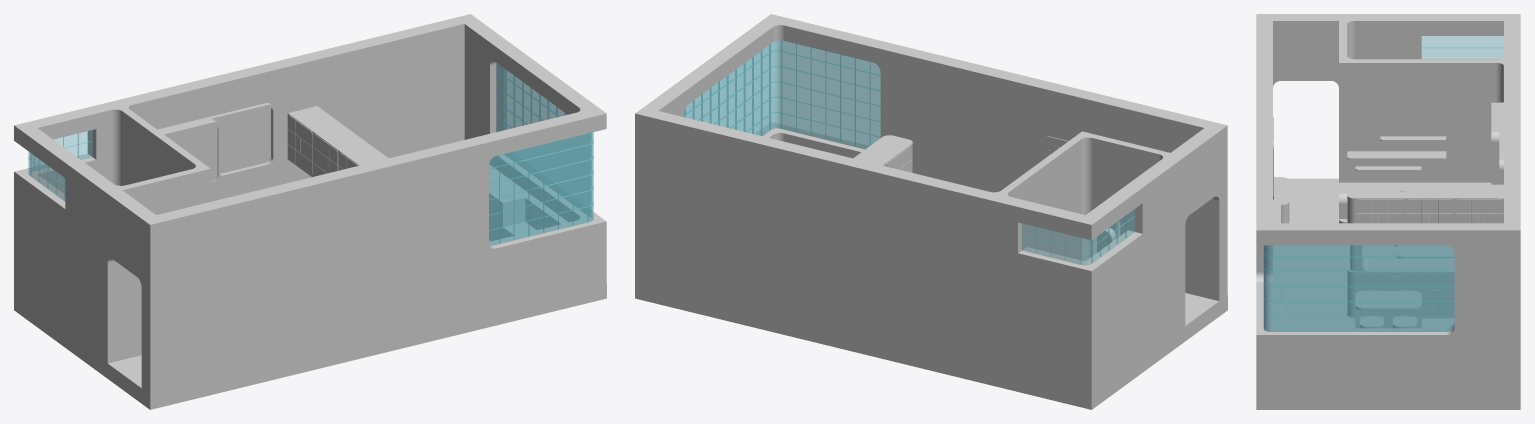
The model's file is memory typeA OptionA.glb.
3 renders of one model, left to right at view 1: azimuth 30°, elevation 25°; view 2: azimuth 150°, elevation 25°; view 3: azimuth 270°, elevation 25°, orthographic. The views are drawn at different scales.
Visible parts, largest first — view 1: 绿植区墙, 客厅墙, 厕所墙, 厨房墙, Glass, 卧室墙, 阅读区墙, 卧室衣柜, 厨房橱柜, 白色石膏, 米白色石膏, 客厅沙发（软） (+1 smaller); view 2: 厕所墙, 厨房墙, 卧室墙, 绿植区墙, 客厅墙, Glass, 阅读区墙, 卧室衣柜; view 3: 客厅墙, 厕所墙, 厨房墙, Glass, 厨房橱柜, 绿植区墙, 卧室墙, 卧室衣柜, 厨房餐桌, 卧室架子, 白色石膏, 卧室床（软） (+6 smaller).
Boxes of the visible parts, left/top/right/bottom form: 绿植区墙: left=245, top=136, right=488, bottom=384; 客厅墙: left=107, top=70, right=606, bottom=409; 厕所墙: left=14, top=102, right=210, bottom=378; 厨房墙: left=294, top=14, right=546, bottom=241; Glass: left=28, top=63, right=593, bottom=245; 卧室墙: left=110, top=71, right=243, bottom=201; 阅读区墙: left=235, top=57, right=302, bottom=193; 卧室衣柜: left=287, top=109, right=373, bottom=176; 厨房橱柜: left=303, top=106, right=524, bottom=240; 白色石膏: left=157, top=103, right=275, bottom=184; 米白色石膏: left=167, top=125, right=217, bottom=181; 客厅沙发（软）: left=503, top=196, right=567, bottom=237; 厕所墙: left=993, top=131, right=1185, bottom=409; 厨房墙: left=635, top=57, right=819, bottom=341; 卧室墙: left=870, top=165, right=1003, bottom=386; 绿植区墙: left=880, top=43, right=1124, bottom=252; 客厅墙: left=712, top=14, right=1227, bottom=340; Glass: left=684, top=40, right=1135, bottom=264; 阅读区墙: left=812, top=150, right=878, bottom=355; 卧室衣柜: left=868, top=137, right=912, bottom=172; 客厅墙: left=1256, top=14, right=1371, bottom=409; 厕所墙: left=1339, top=14, right=1520, bottom=182; 厨房墙: left=1339, top=146, right=1520, bottom=409; Glass: left=1263, top=36, right=1503, bottom=331; 厨房橱柜: left=1347, top=191, right=1503, bottom=317; 绿植区墙: left=1256, top=63, right=1280, bottom=292; 卧室墙: left=1339, top=59, right=1520, bottom=310; 卧室衣柜: left=1347, top=184, right=1503, bottom=264; 厨房餐桌: left=1355, top=291, right=1421, bottom=327; 卧室架子: left=1347, top=136, right=1446, bottom=159; 白色石膏: left=1491, top=102, right=1503, bottom=184; 卧室床（软）: left=1339, top=219, right=1454, bottom=257.
Size of the model in its own units: 9.3 by 3.6 by 4.8.
